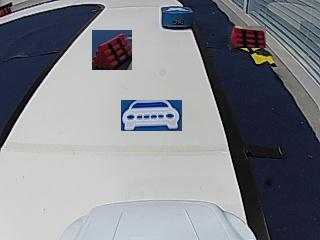prop: (162, 6, 194, 29)
